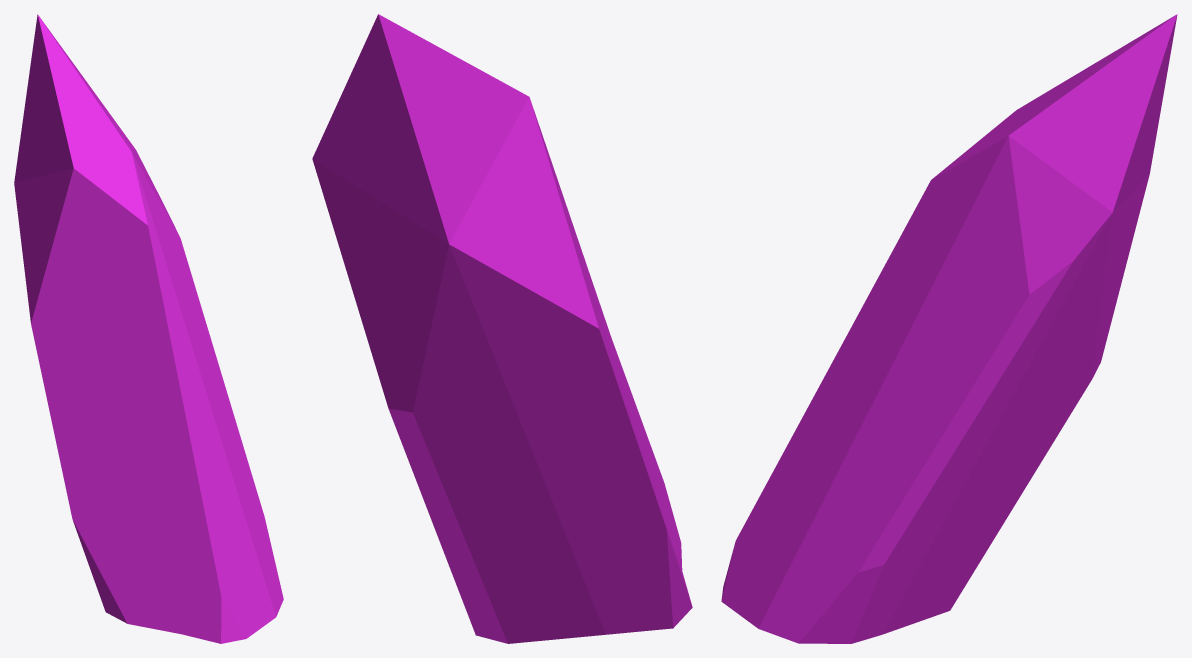
The model's file is Boss Crystal2.fbx.
3 views of the same model, side by side, from view 1: azimuth 30°, elevation 25°; view 2: azimuth 150°, elevation 25°; view 3: azimuth 270°, elevation 25° (orthographic). The views are drawn at different scales.
Visible parts, largest first — view 1: boss crystal.002; view 2: boss crystal.002; view 3: boss crystal.002.
Boxes of the visible parts, x1,y1,x2,y2 form: boss crystal.002: [14, 14, 283, 643]; boss crystal.002: [312, 14, 692, 643]; boss crystal.002: [721, 14, 1177, 643].
Size of the model in its own units: 0.6126 by 1.68 by 1.2.
